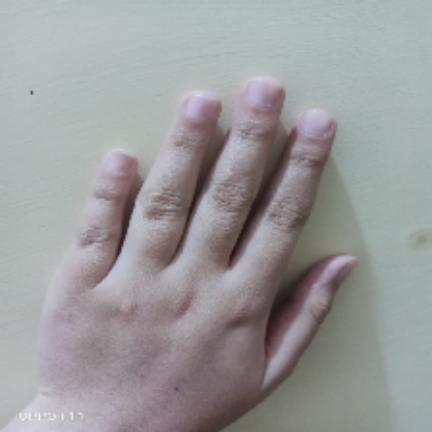Nail: (247, 77, 284, 106), (186, 90, 221, 119), (299, 109, 335, 137), (104, 151, 131, 173), (339, 261, 357, 280)
